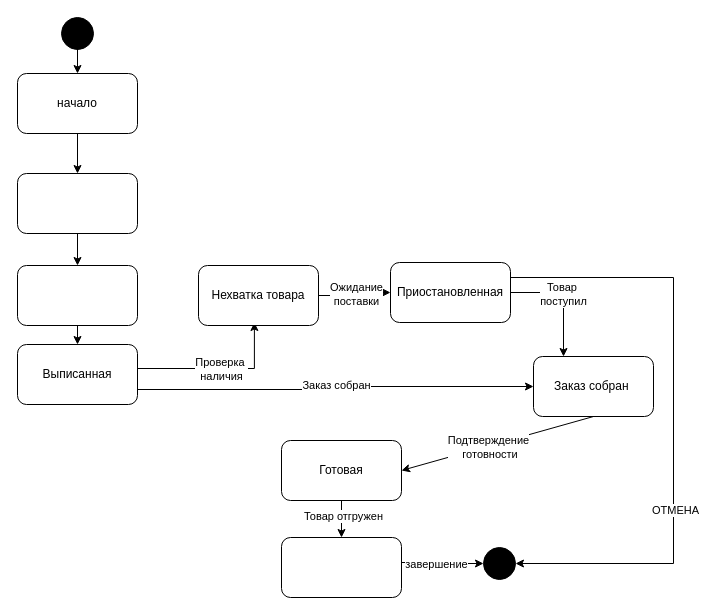
Image size: 716x615. Some labels were removed from this diagram. The box of each missing label's shape, as (x1, y1, x2, y2) in pixels:
Новая: (16, 264, 138, 326)
Отгруженная: (280, 536, 402, 598)
Создание: (16, 172, 138, 234)
